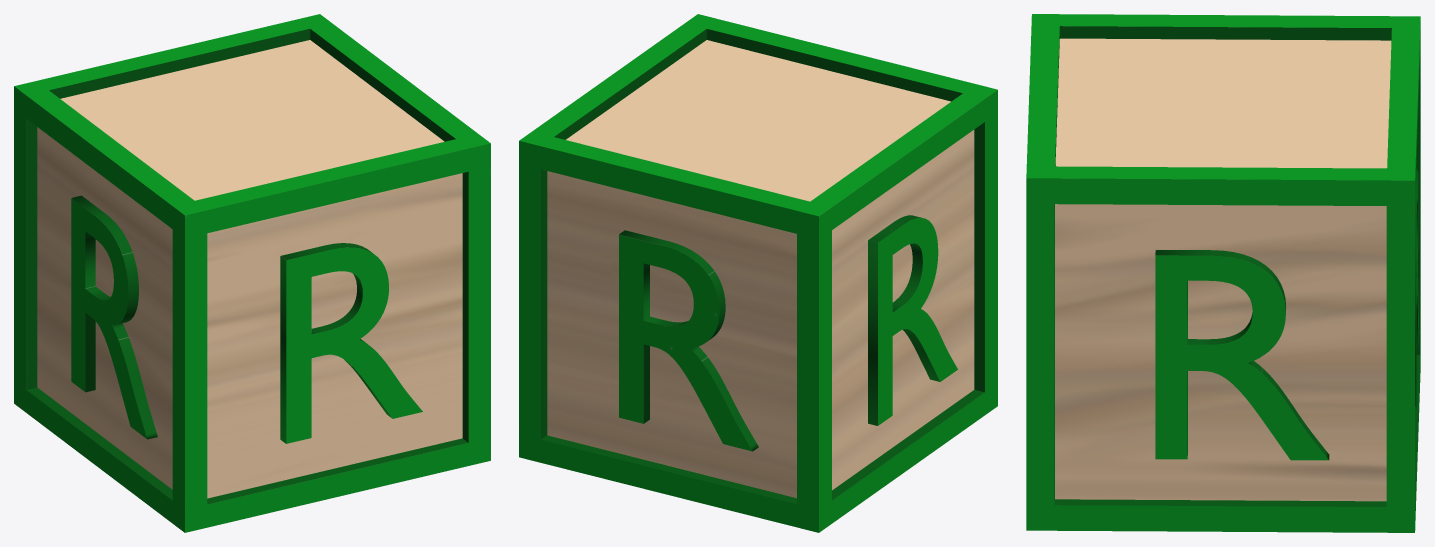
3 renders of one model, left to right at view 1: azimuth 30°, elevation 25°; view 2: azimuth 150°, elevation 25°; view 3: azimuth 270°, elevation 25°, orthographic. The views are drawn at different scales.
Visible parts, largest first — view 1: Text.057; view 2: Text.057; view 3: Text.057.
Boxes of the visible parts, <box> form: Text.057: <box>14,14,490,532</box>; Text.057: <box>519,14,997,532</box>; Text.057: <box>1026,14,1420,532</box>.
Size of the model in its own units: 74.61 by 73.57 by 74.61.
1 material, 1 textured.
